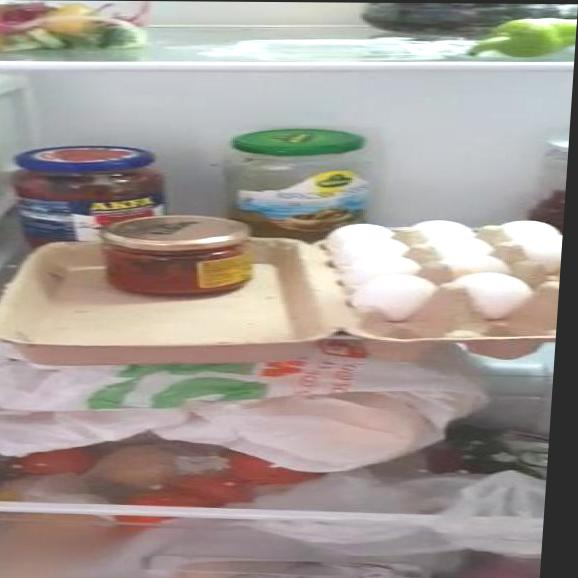eggs: (330, 224, 563, 316)
olives: (366, 3, 578, 27)
tomato: (162, 469, 256, 504), (19, 449, 100, 476)
